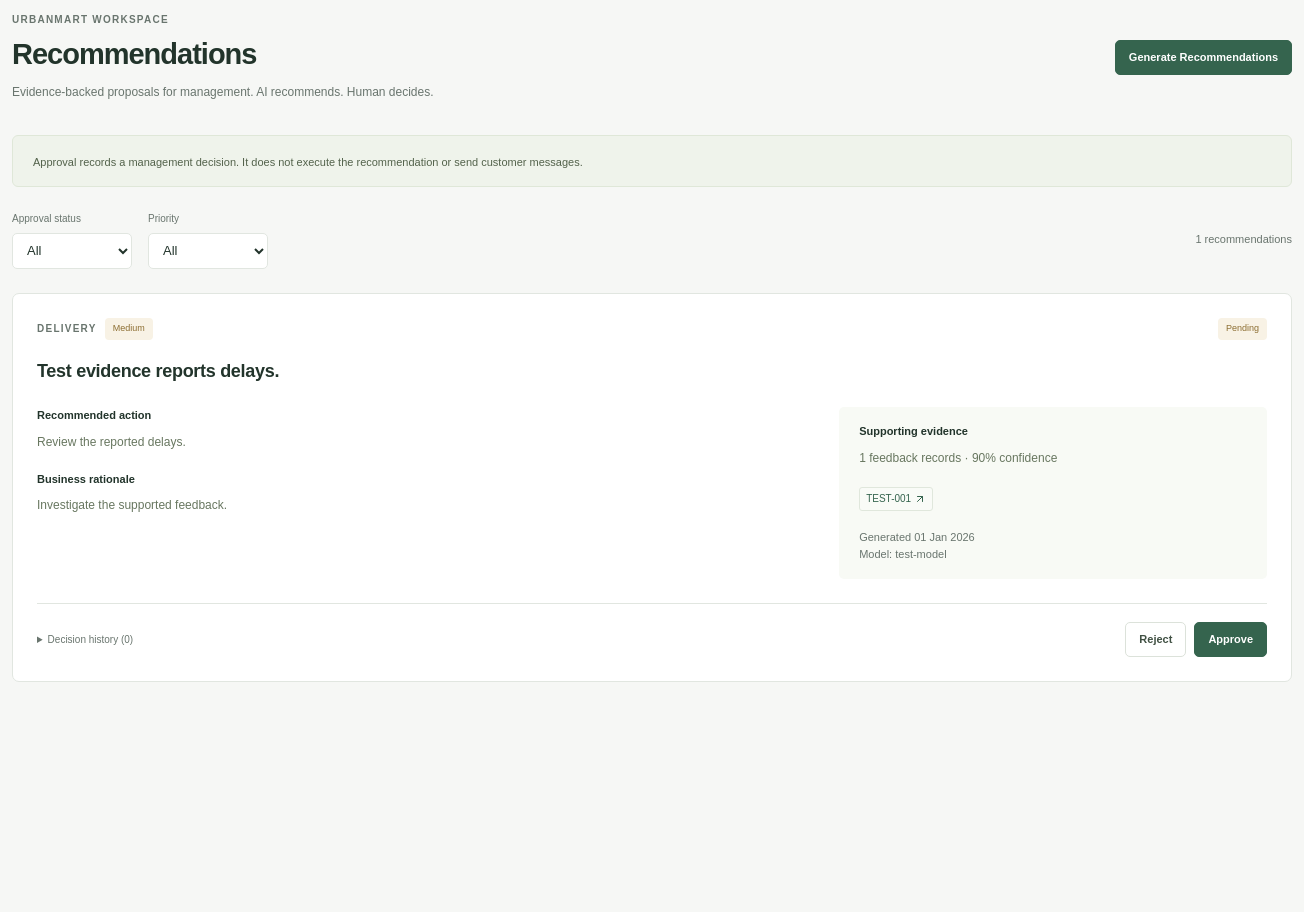
it: Workspace › shows generation errors without automatically retrying
Step 1. Click the button "Generate Recommendations" → (1203, 58), box [1115,40,1292,75]
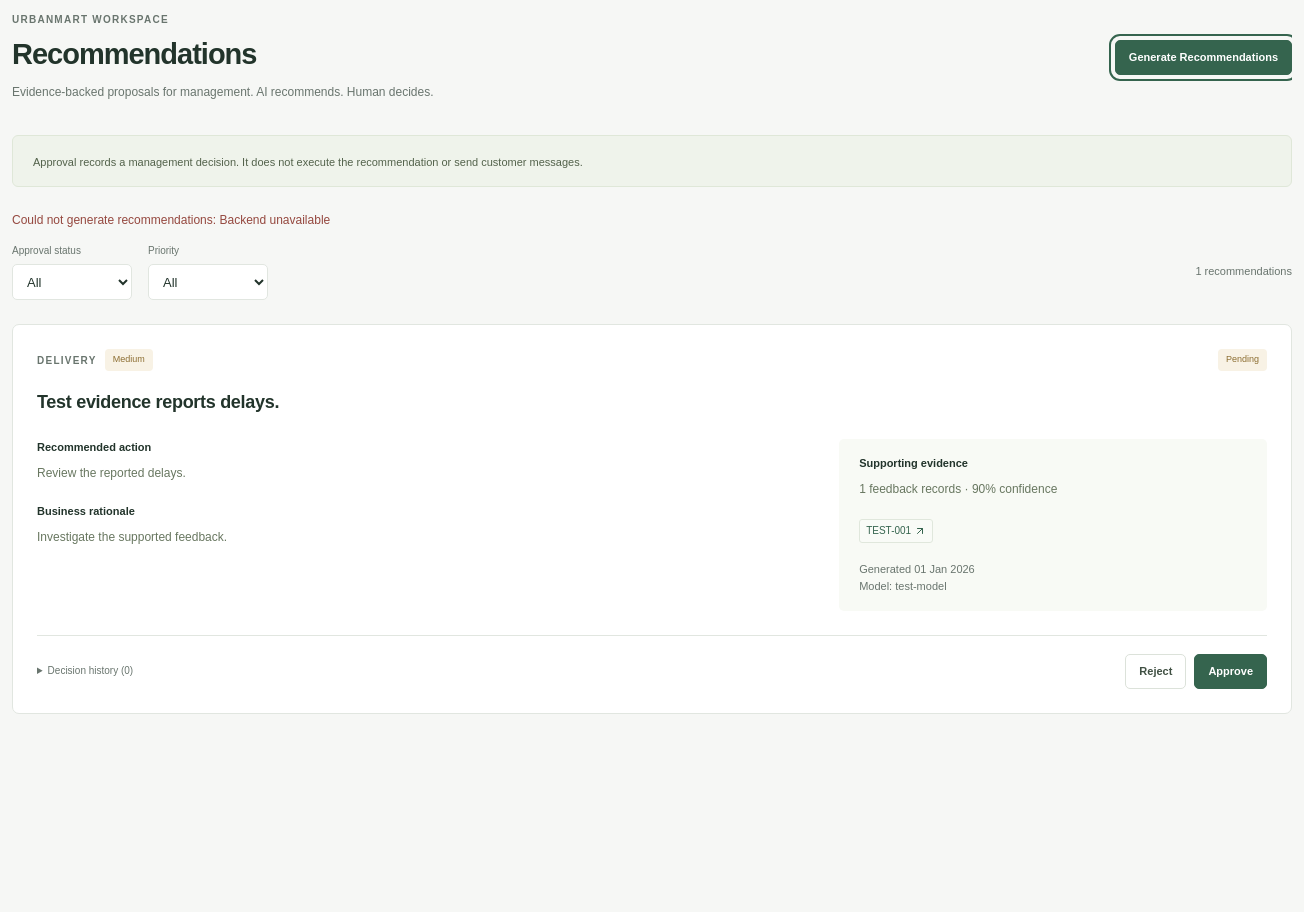
Result: the message shows "Backend unavailable" at [220,213,330,227]
